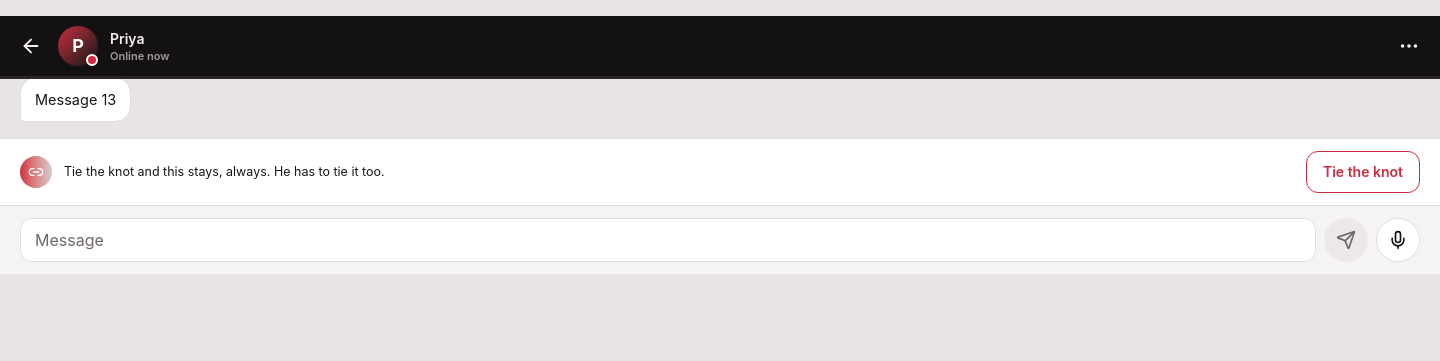
Test: the composer › keeps a failed message with Retry, which sends the same client id
The width and height of the screenshot is (1440, 361).
Type "Again" into the text box labelled "Message".
click(668, 240); type("Again")  # box [20,218,1316,262]
Then press Enter
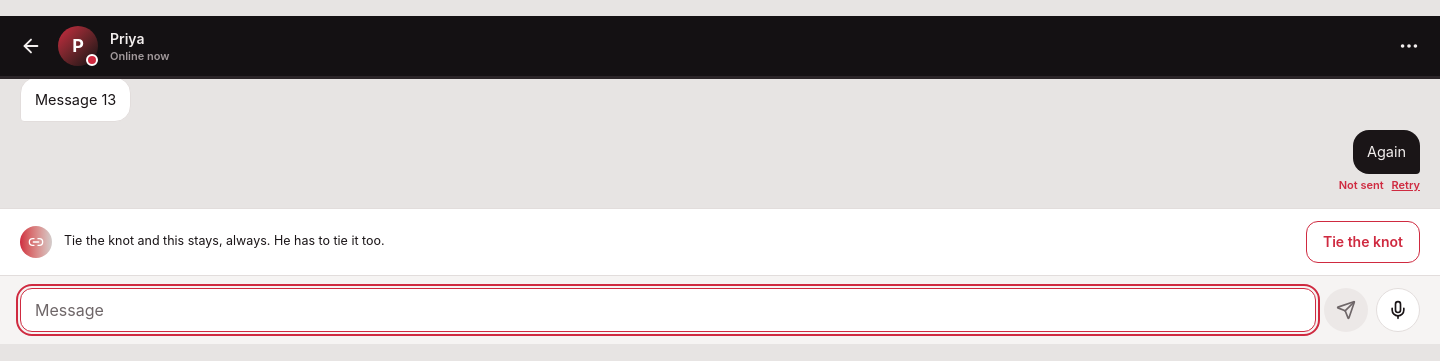
Expected: the text "Not sent" is shown, [1339,178,1384,192]
Click the button "Retry".
click(1406, 185)  # box [1392,178,1420,192]
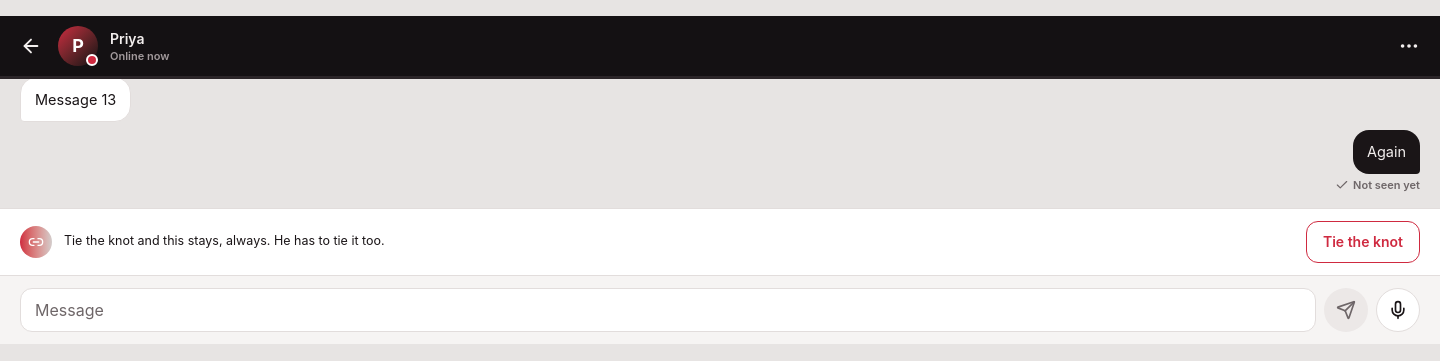
Expected: the text "Again" is shown once, [1367,140,1406,164]
Expected: the text "Not sent" is gone
